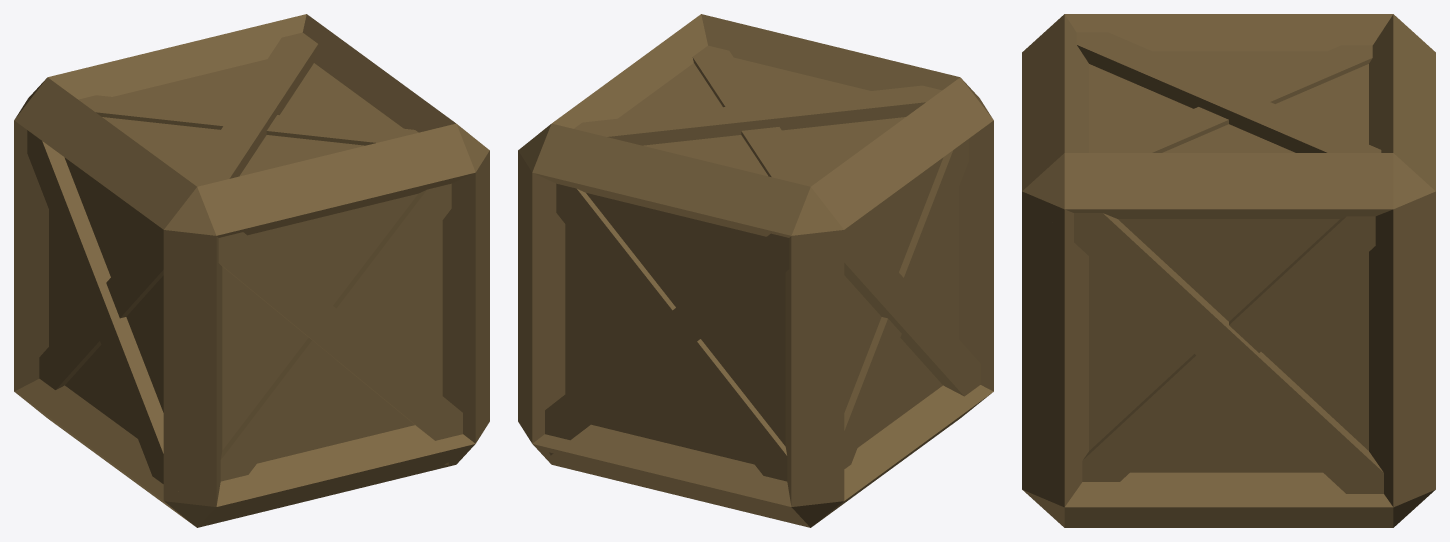
Rendered from SM_caisse.fbx.
The picture shows the model from 3 angles, left to right: view 1: azimuth 30°, elevation 25°; view 2: azimuth 150°, elevation 25°; view 3: azimuth 270°, elevation 25°; orthographic projection. The views are drawn at different scales.
Visible parts, largest first — view 1: SM_caisse; view 2: SM_caisse; view 3: SM_caisse.
Part boxes in pixels (bbox=[...]): SM_caisse: bbox=[14, 14, 489, 527]; SM_caisse: bbox=[518, 14, 993, 527]; SM_caisse: bbox=[1022, 14, 1435, 527].
Bounding box in the file's own units: 93.15 × 93.15 × 93.15.
